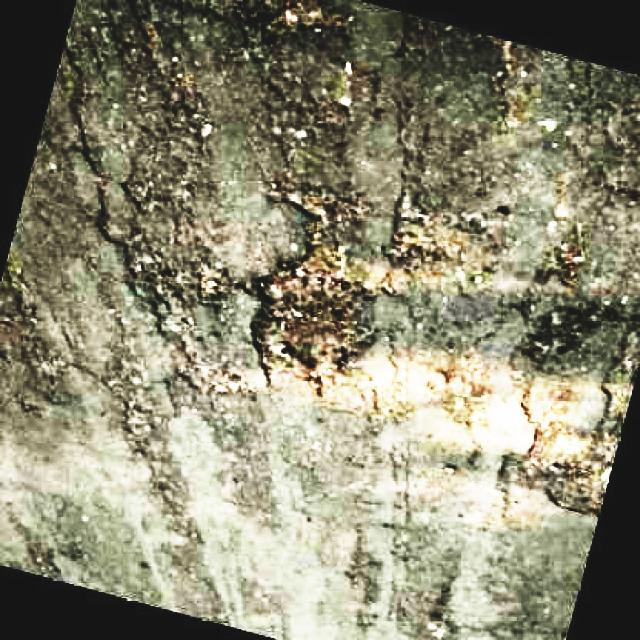pothole: (243, 183, 380, 388), (500, 384, 625, 514), (388, 180, 508, 283), (118, 232, 240, 325), (522, 269, 629, 369), (237, 0, 351, 45)
